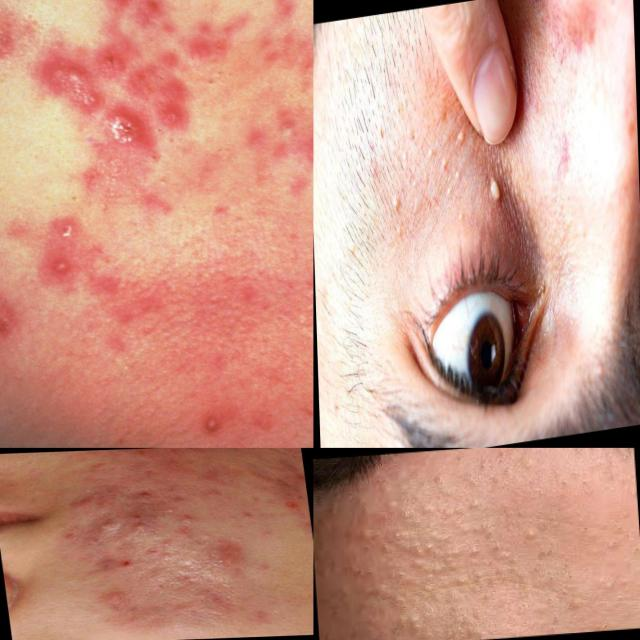acne_scars: (0, 288, 15, 359)
comedone: (421, 448, 522, 491), (546, 463, 597, 506), (613, 508, 640, 559), (342, 556, 382, 587), (475, 520, 504, 560), (398, 604, 425, 635), (351, 521, 384, 545), (556, 550, 576, 586), (377, 490, 402, 512), (154, 503, 183, 517), (74, 484, 96, 496), (155, 537, 172, 547), (213, 556, 230, 566), (222, 535, 239, 542)
flat_wart: (420, 123, 451, 171), (386, 186, 410, 242)
milium: (484, 156, 506, 213), (451, 118, 471, 156), (438, 176, 453, 210), (450, 204, 468, 232)
papule: (145, 68, 206, 140), (278, 502, 304, 514), (96, 518, 118, 528)
pustule: (184, 404, 222, 446), (264, 111, 308, 144), (43, 250, 73, 287), (126, 521, 150, 534)
sebo-crystan-conglo: (24, 51, 92, 116), (92, 112, 142, 146)
